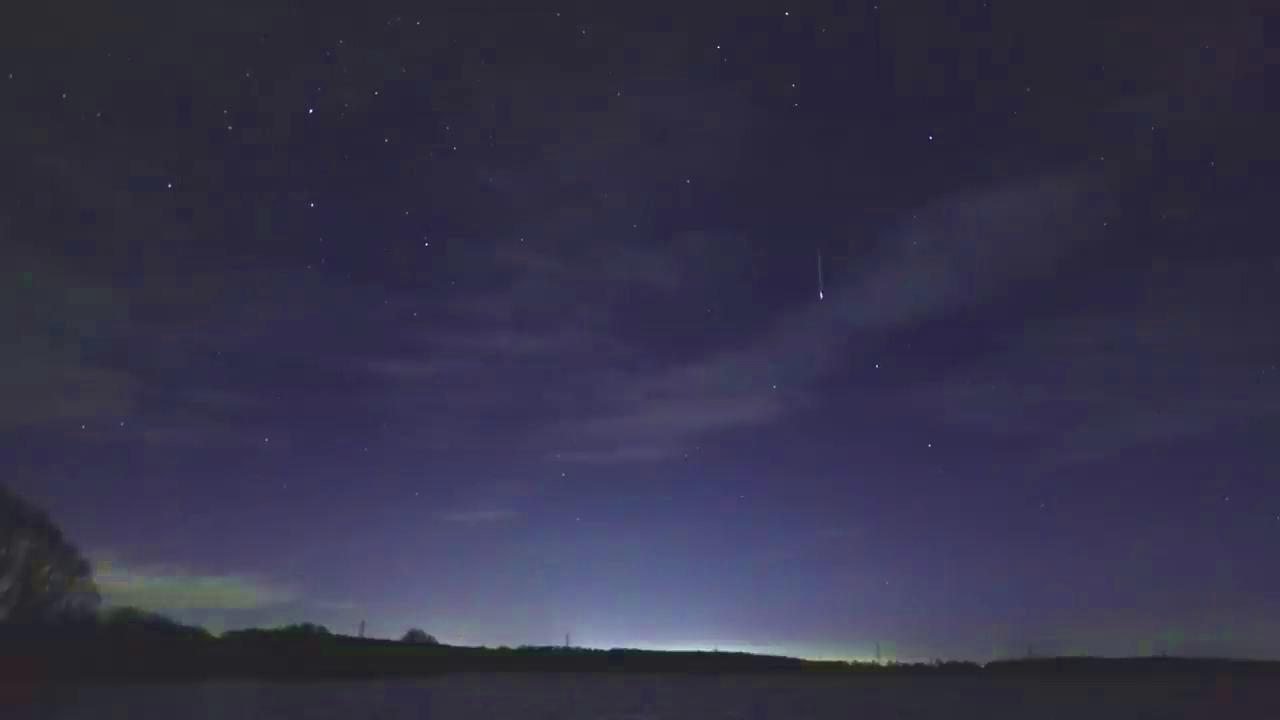meteorite: (785, 247, 849, 310)
